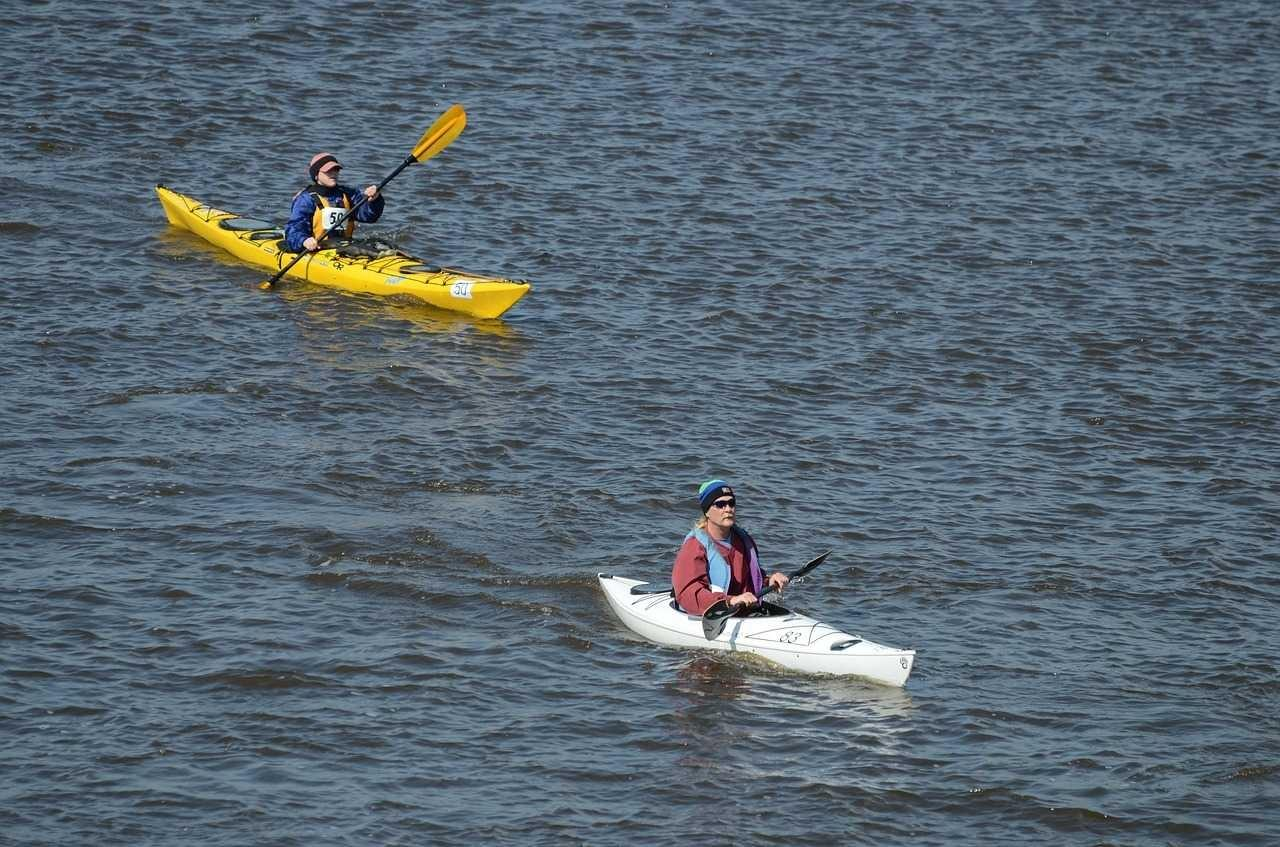kayak: (155, 184, 532, 320), (595, 572, 918, 689), (284, 152, 387, 261)
